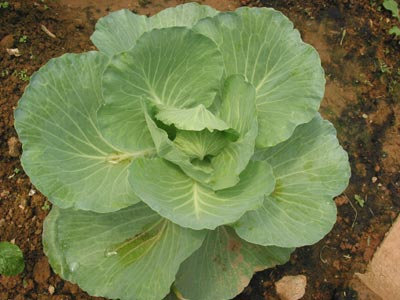cabbage: (13, 0, 351, 299)
